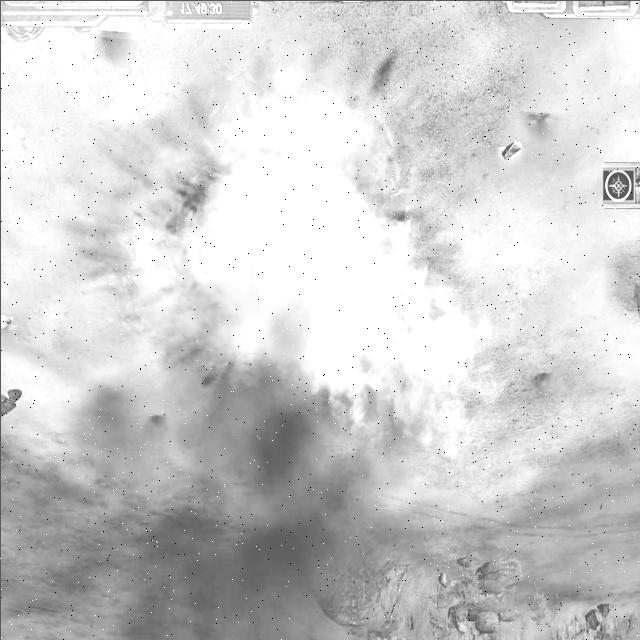api: (92, 60, 516, 484)
asap: (118, 219, 426, 640)
